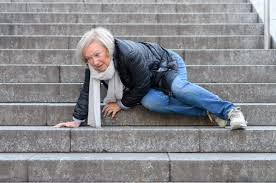falling: (58, 30, 250, 130)
